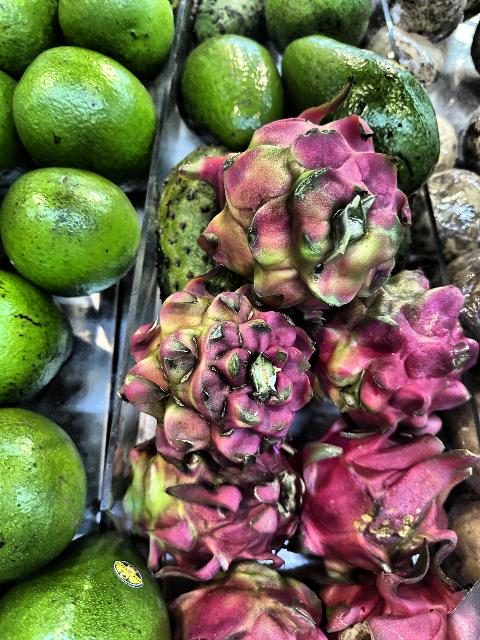buah-naga-belum-matang: (170, 100, 420, 300), (110, 271, 318, 459), (109, 416, 307, 556), (312, 264, 478, 430), (300, 426, 466, 566), (154, 554, 324, 640)
buah-naga-matang: (316, 556, 480, 640)
